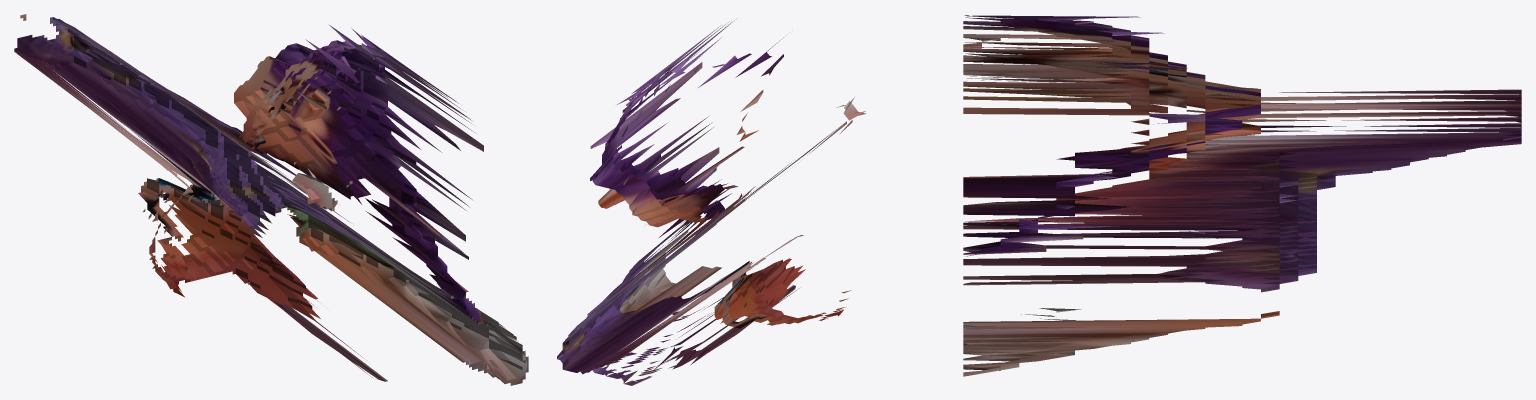
File: frame_00000.glb
3 renders of one model, left to right at view 1: azimuth 30°, elevation 25°; view 2: azimuth 150°, elevation 25°; view 3: azimuth 270°, elevation 25°, orthographic. The views are drawn at different scales.
Visible parts, largest first — view 1: geometry_0; view 2: geometry_0; view 3: geometry_0.
Part boxes in pixels (x1,y1,x2,y2): geometry_0: (14,14,528,385); geometry_0: (557,18,866,385); geometry_0: (963,15,1521,376).
Bounding box in the file's own units: 0.0961 × 0.0984 × 0.16.
1 material, 1 textured.
